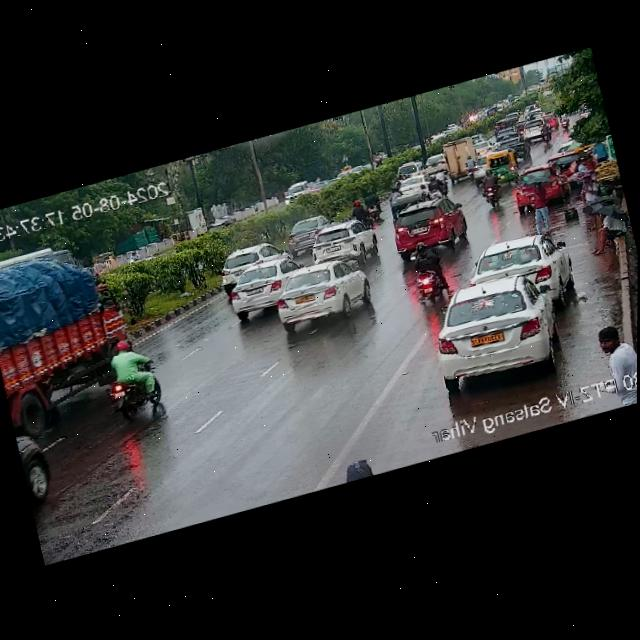bus: (536, 81, 569, 113)
car: (0, 236, 138, 437), (423, 266, 566, 392), (266, 249, 380, 338), (465, 225, 572, 309), (214, 253, 309, 326), (385, 190, 471, 264), (215, 240, 285, 295), (303, 214, 374, 263), (512, 160, 567, 213), (285, 214, 331, 253), (483, 145, 521, 179), (277, 178, 313, 207), (496, 133, 531, 162), (395, 171, 432, 195), (519, 116, 547, 141), (394, 161, 422, 182), (425, 152, 446, 174), (494, 125, 521, 141), (592, 134, 607, 160), (576, 154, 591, 178), (586, 152, 596, 170)
motorcycle: (96, 331, 172, 420), (407, 238, 447, 303), (475, 171, 503, 205), (346, 197, 371, 232), (460, 154, 477, 180), (557, 112, 570, 131)
person: (578, 194, 635, 259), (591, 317, 637, 376), (524, 177, 558, 234), (575, 172, 600, 205)
truck: (440, 136, 480, 184)
